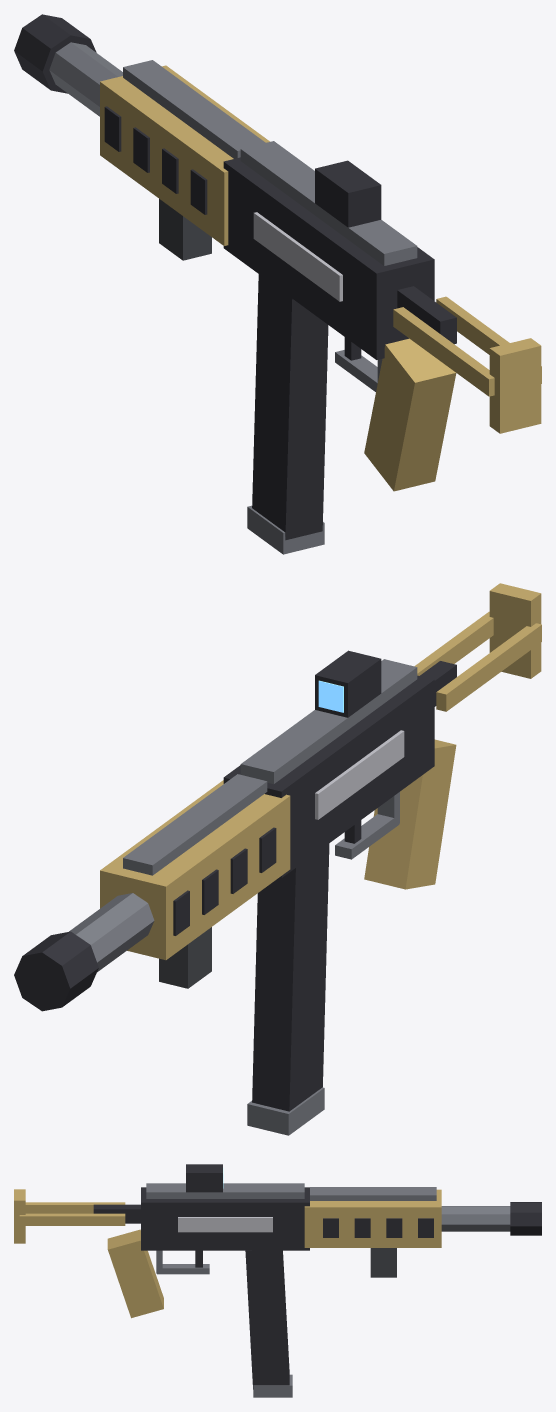
Rendered from smg.glb.
3 renders of one model, top to bottom at view 1: azimuth 30°, elevation 25°; view 2: azimuth 150°, elevation 25°; view 3: azimuth 270°, elevation 25°, orthographic. The views are drawn at different scales.
Visible parts, largest first — view 1: Smg; view 2: Smg; view 3: Smg.
Boxes of the visible parts, x1,y1,x2,y2 form: Smg: (14, 14, 541, 554); Smg: (14, 583, 541, 1135); Smg: (14, 1164, 541, 1397).
Size of the model in its own units: 0.086 by 0.4675 by 1.
